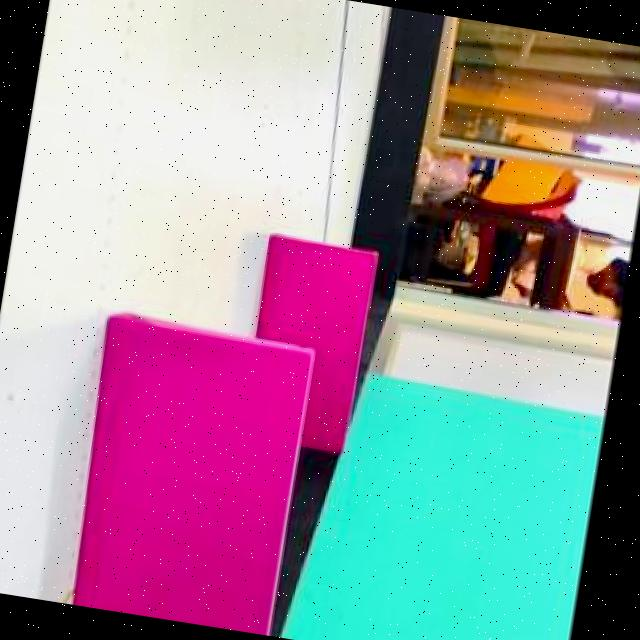xparking: (76, 322, 304, 634), (256, 242, 375, 347)
